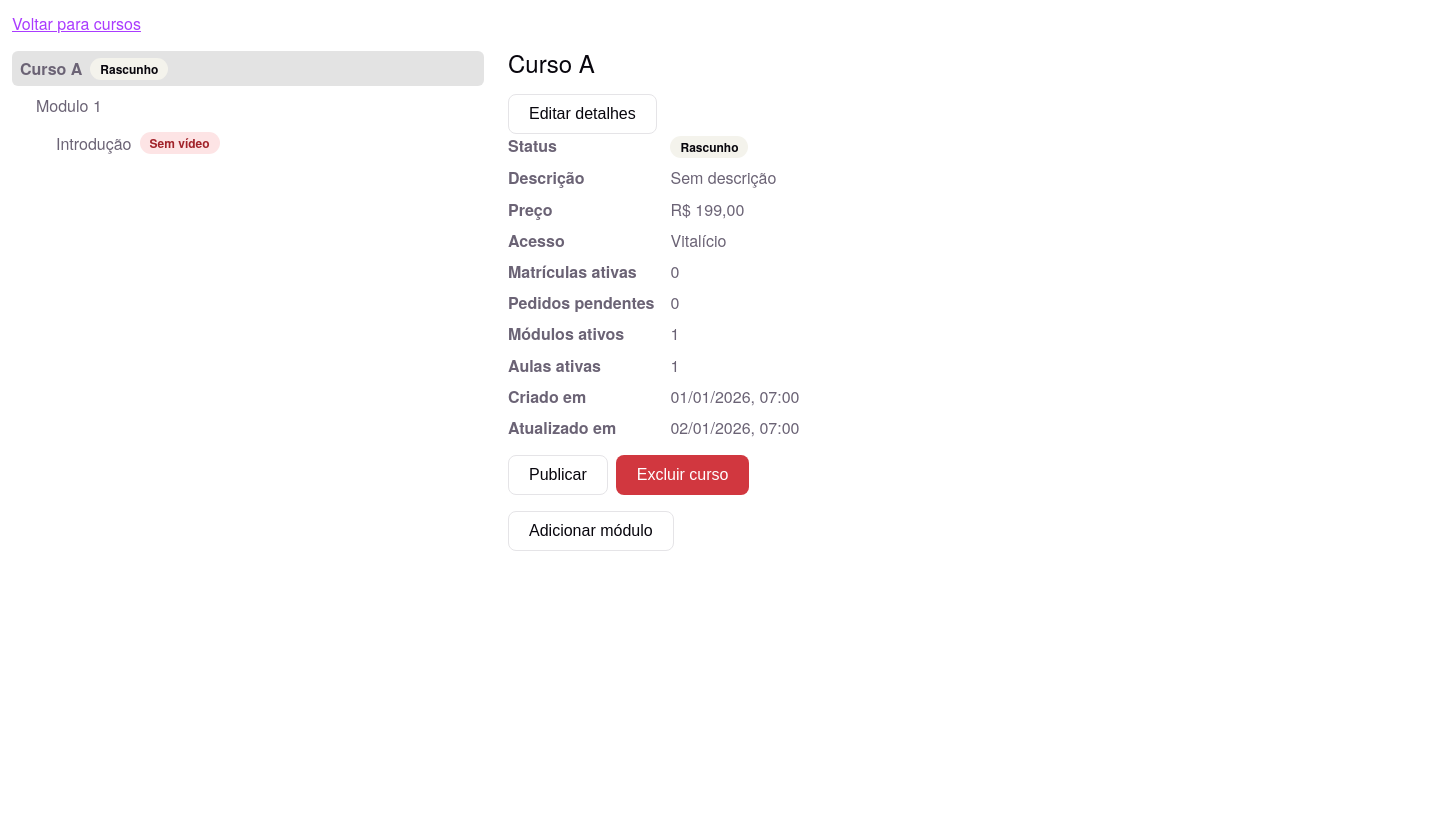
Scenario: changing status › falls back to a generic gate message when the list is empty
The width and height of the screenshot is (1452, 822).
Click the button "Publicar" at x=558, y=475, box [508,455,608,495]
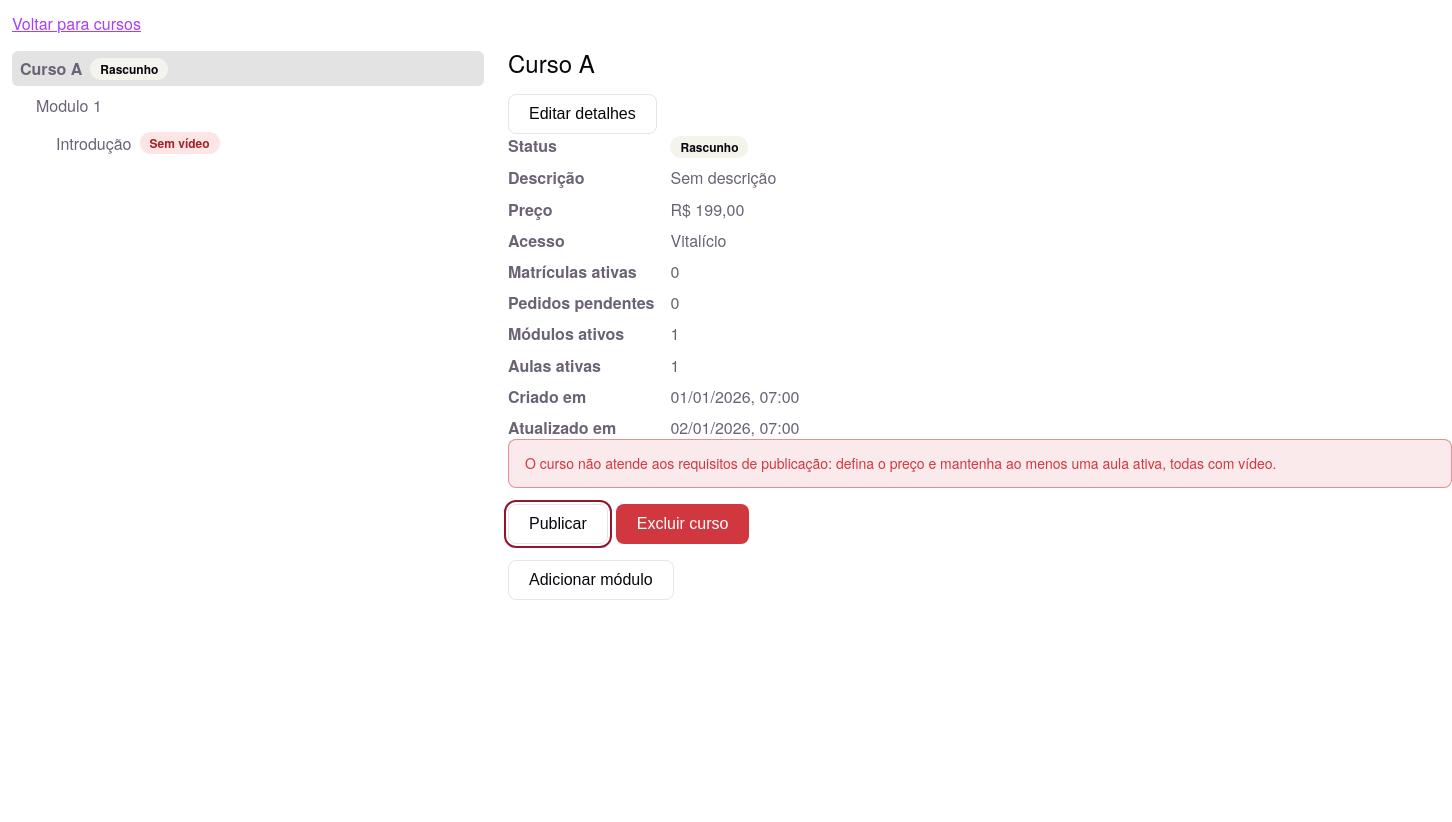
Expected: the message shows "não atende aos requisitos", [525,453,1276,473]
